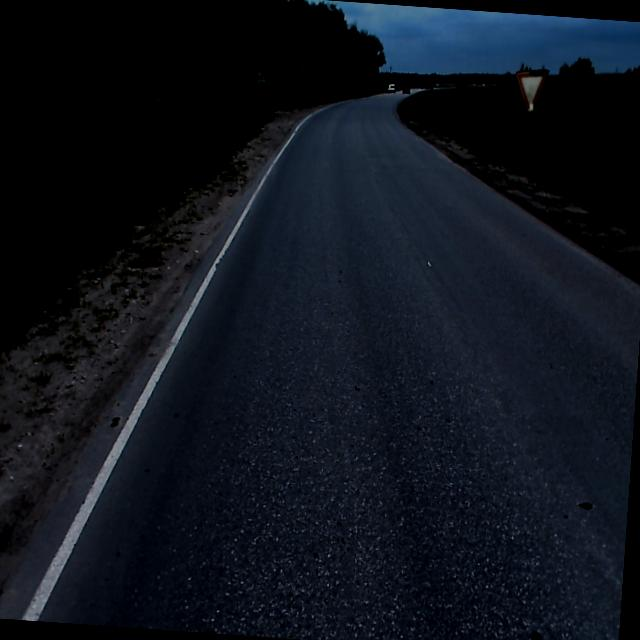road: (0, 91, 640, 640)
